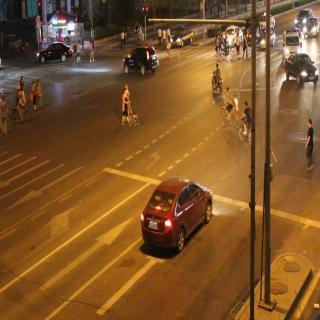Car: (143, 170, 215, 261), (124, 40, 164, 80), (282, 46, 320, 87), (288, 2, 320, 40), (36, 35, 73, 66), (280, 27, 304, 62), (165, 29, 197, 54), (255, 23, 276, 52), (222, 25, 241, 50), (305, 17, 320, 40), (256, 14, 276, 27)
